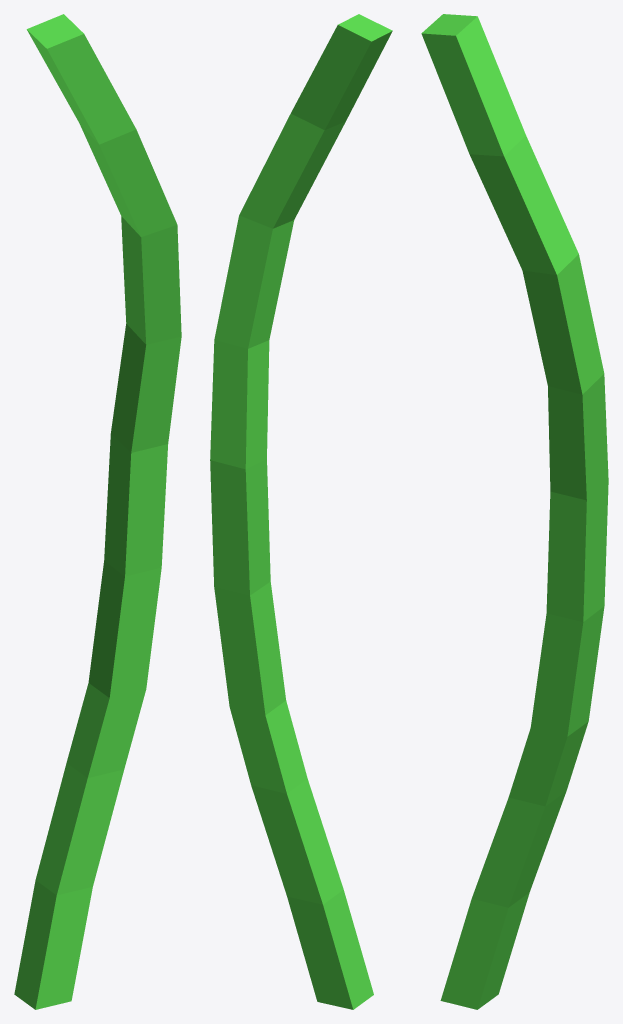
3 views of the same model, side by side, from view 1: azimuth 30°, elevation 25°; view 2: azimuth 150°, elevation 25°; view 3: azimuth 330°, elevation 25° (orthographic). The views are drawn at different scales.
Parts seen in each view (by area): view 1: root02; view 2: root02; view 3: root02.
Boxes of the visible parts, box(x1,y1,x2,y2) form: root02: box(14, 14, 181, 1009); root02: box(210, 14, 392, 1009); root02: box(421, 14, 608, 1009).
Size of the model in its own units: 15.24 by 96.67 by 8.5.
